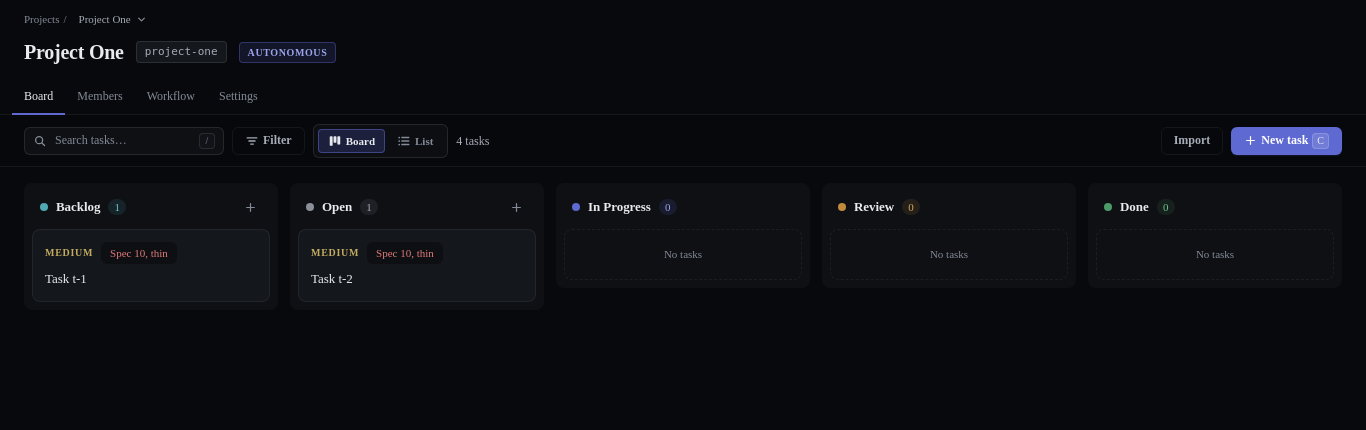
Scenario: board route columns from the project's workflows › shows the five built-in columns for a built-in project with discarded tasks
Expected: the text "Task t-4" is not shown
Note: The list-view chip row stays on the same five.
Click the tab "List".
click(415, 140)  # box left=387, top=128, right=443, bottom=152
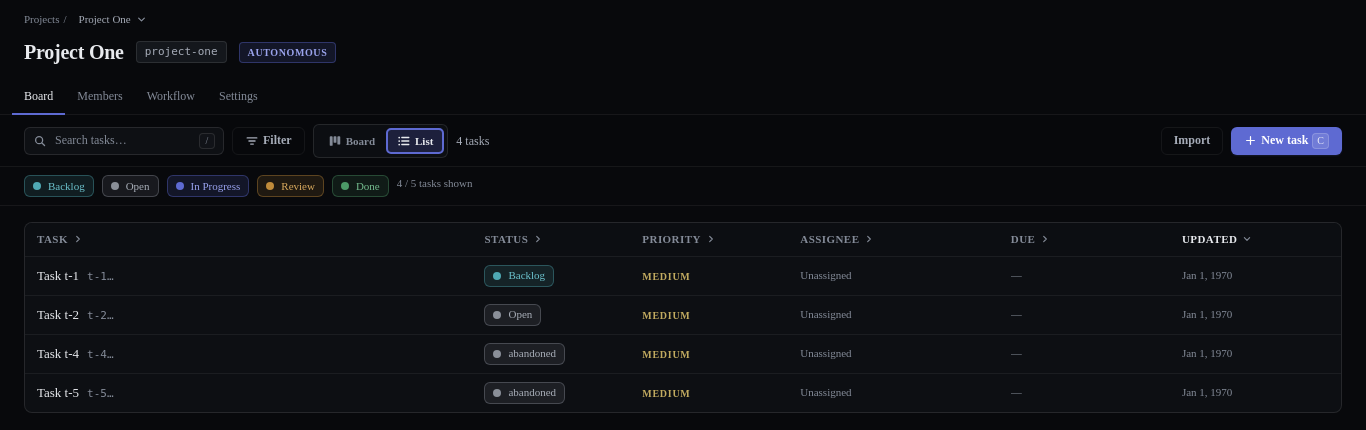
Expected: the element with class "db-status-summary" does not show "abandoned"
Result: the element with class "db-status-summary" is shown at left=0, top=167, right=1365, bottom=206
